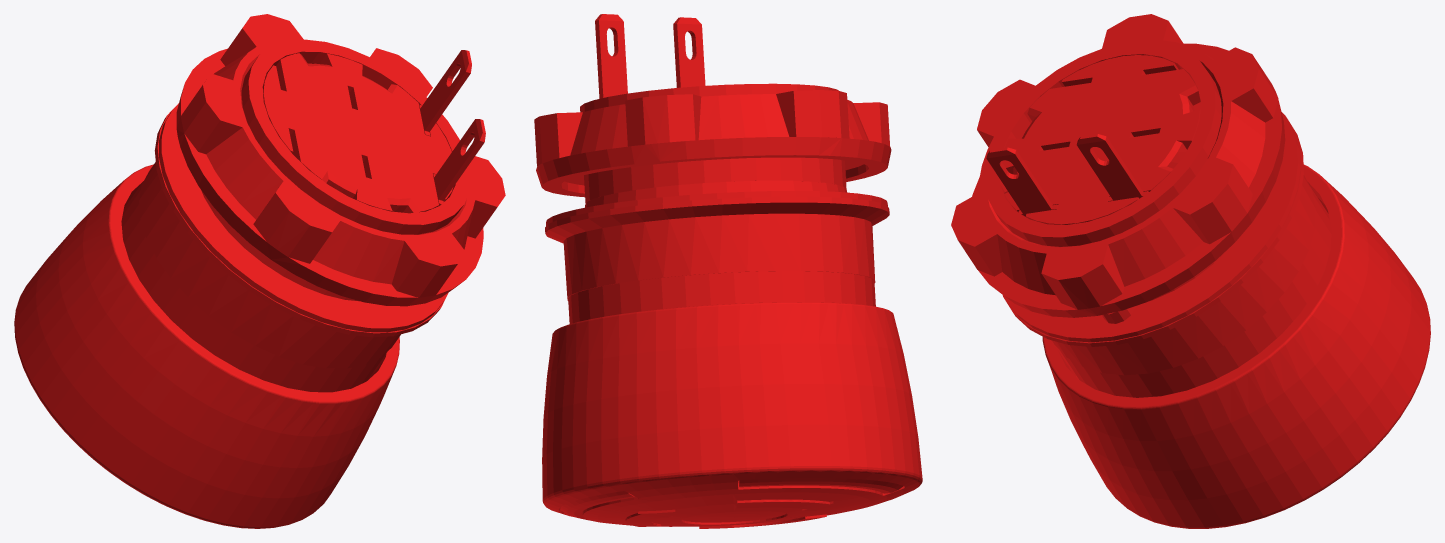
3 renders of one model, left to right at view 1: azimuth 30°, elevation 25°; view 2: azimuth 150°, elevation 25°; view 3: azimuth 270°, elevation 25°, orthographic. The views are drawn at different scales.
Visible parts, largest first — view 1: 18; view 2: 18; view 3: 18.
Part boxes in pixels (box(x1,y1,x2,y2)): 18: box(14, 14, 505, 528); 18: box(534, 14, 922, 528); 18: box(951, 14, 1430, 528).
Size of the model in its own units: 0.0387 by 0.0433 by 0.0413.
